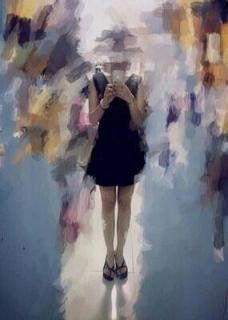vest: (86, 71, 147, 187)
